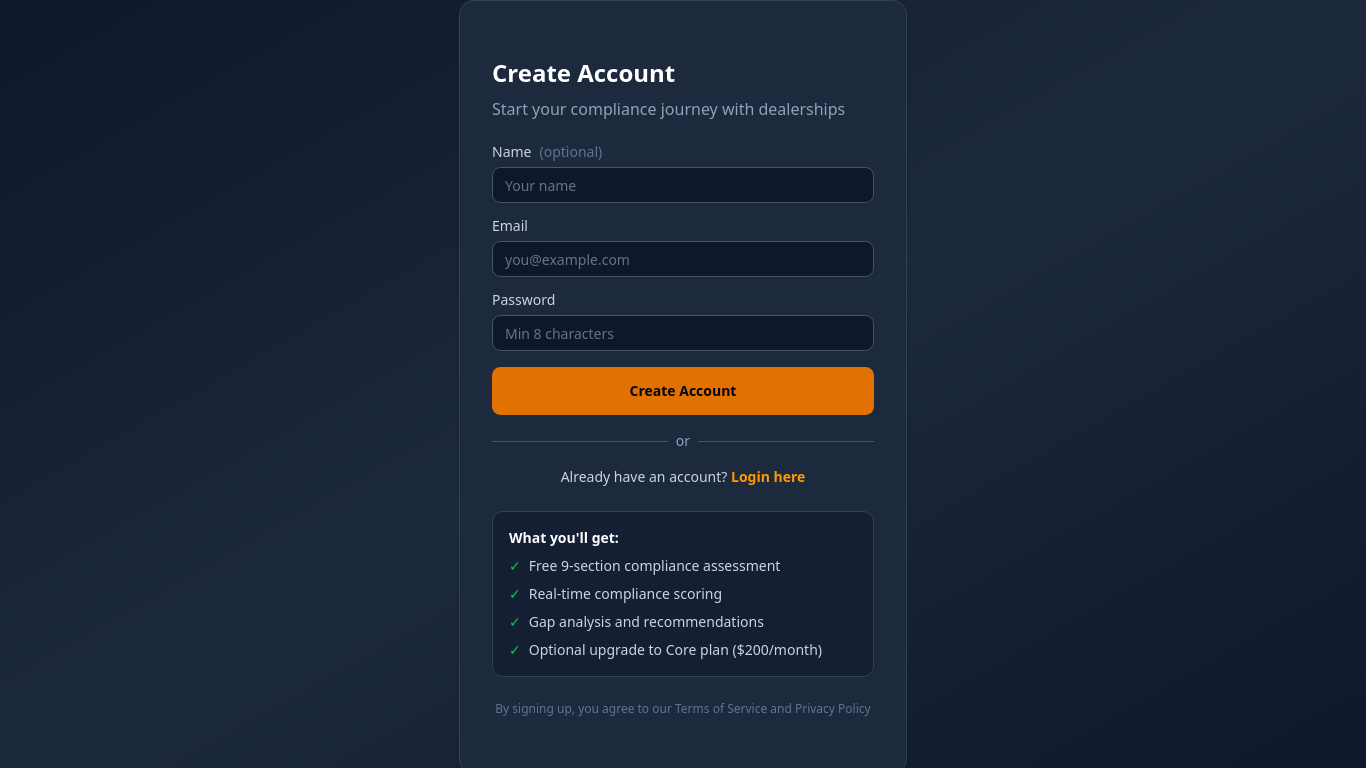
it: A11Y-02: auth forms › Signup › announces a failed sign-up as a status message (3.3.1 / 4.1.3)
Type "taken@example.com" into the field labelled "Email" at (683, 259), box [492,241,874,277]
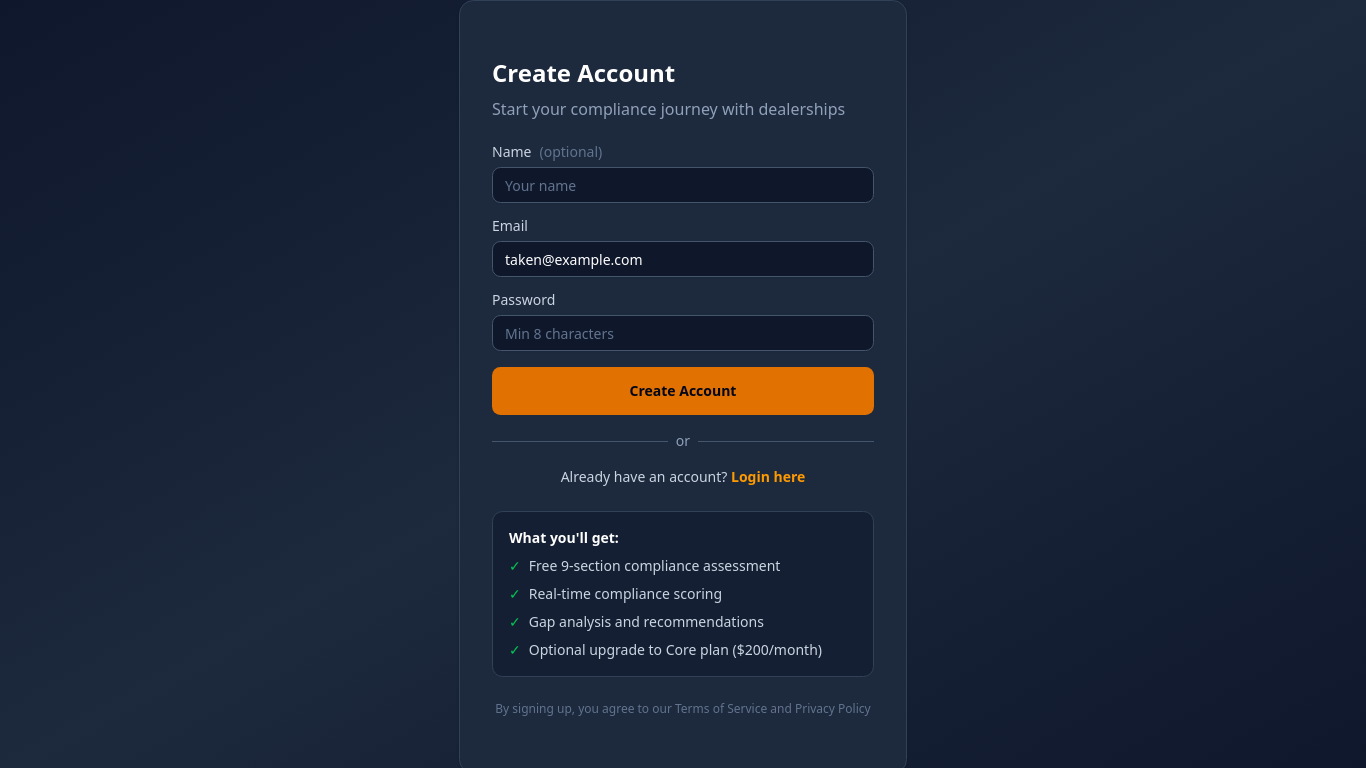
Type "password123" into the password field labelled "Password" at (683, 333), box [492,315,874,351]
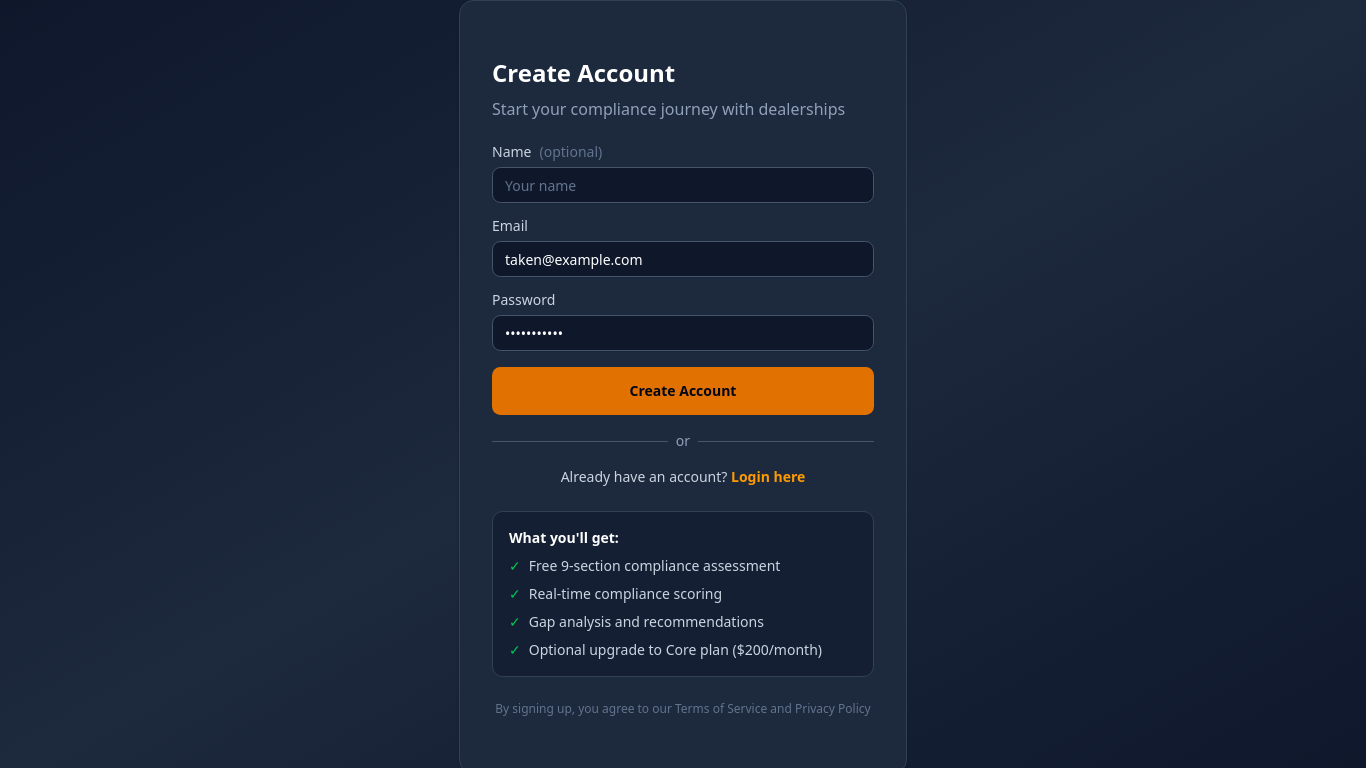
Click the button "Create Account" at (683, 391), box [492,367,874,415]
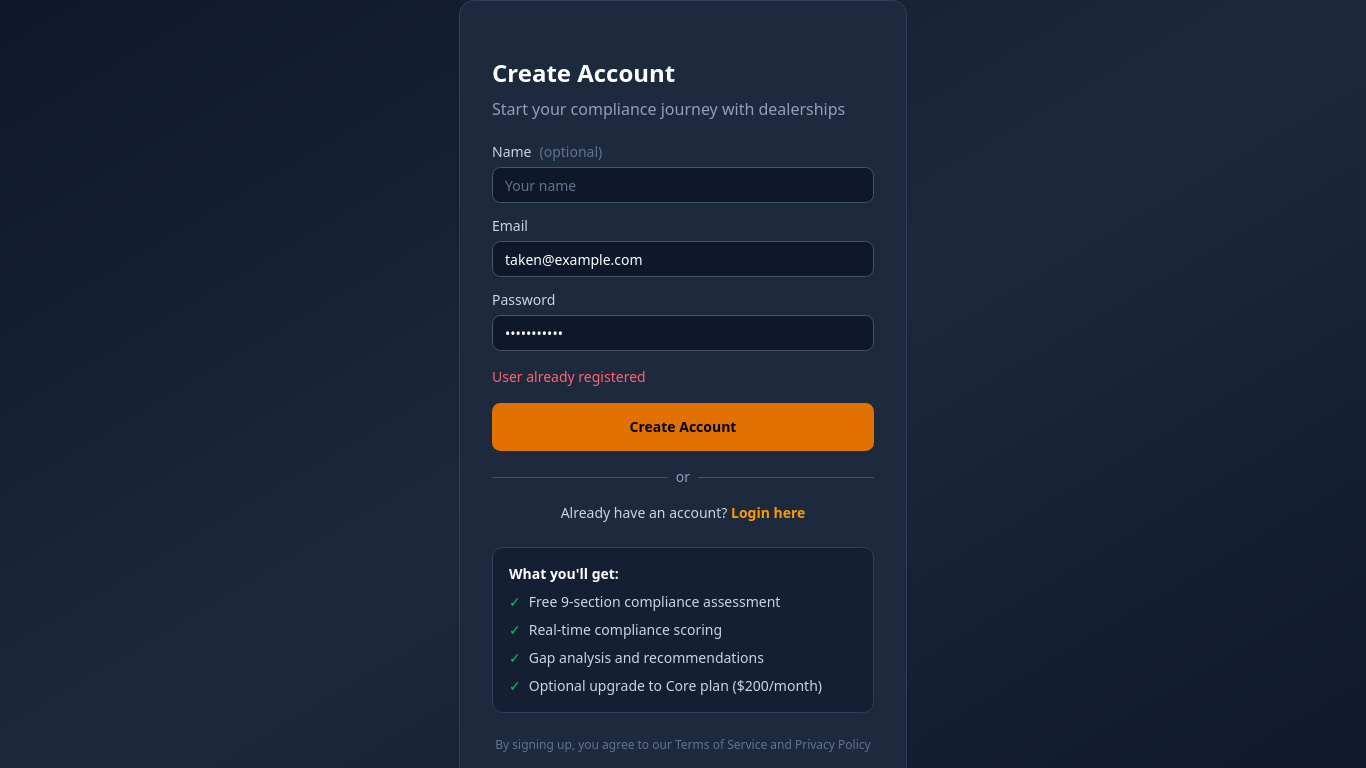
Check: the message reads "User already registered", box [492,367,646,386]
